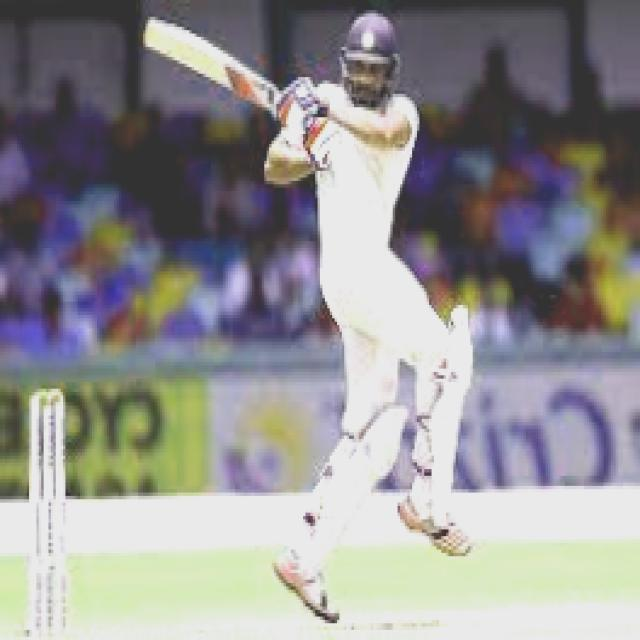toe: (142, 12, 169, 54)
